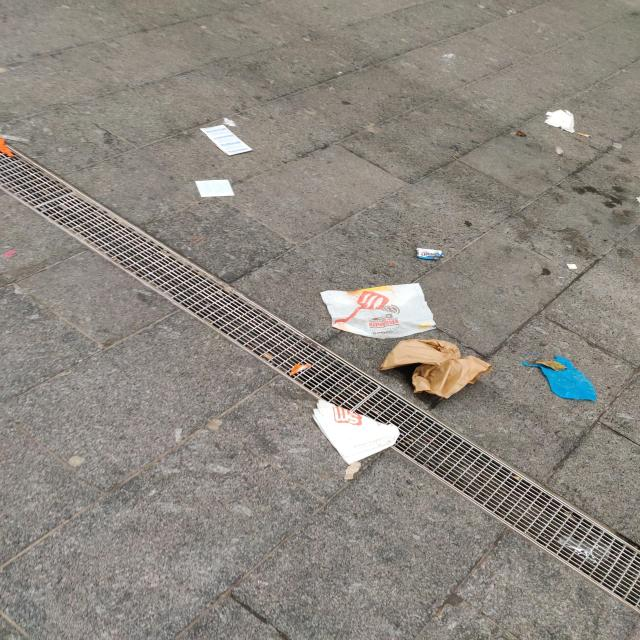litter: (378, 338, 492, 399), (320, 283, 436, 339), (312, 399, 399, 465), (521, 353, 596, 402), (199, 125, 252, 156), (195, 180, 233, 196), (417, 249, 442, 260), (289, 364, 311, 374)
